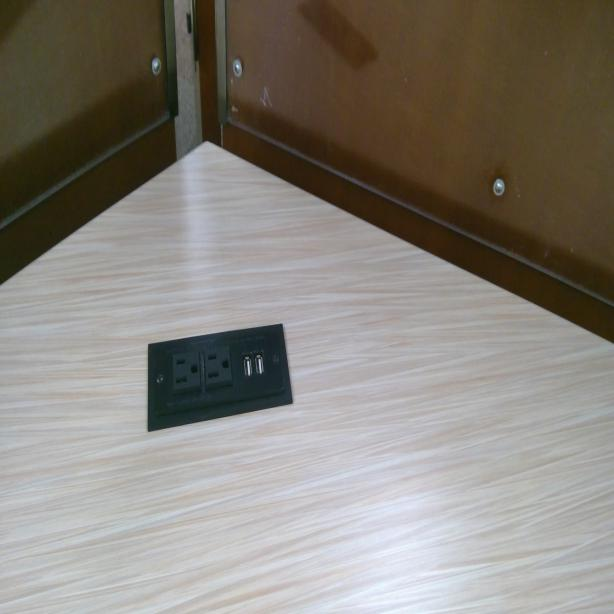typeb: (204, 349, 233, 386), (172, 354, 200, 391)
